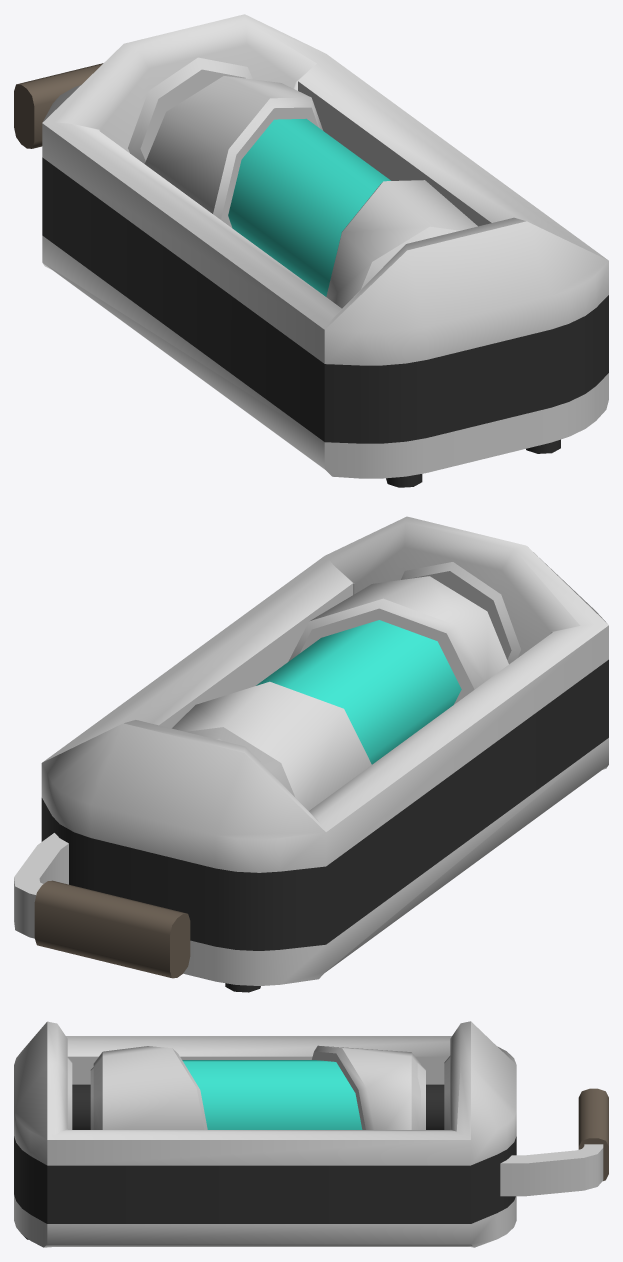
File: Ammo placeholder 2.fbx
The picture shows the model from 3 angles, top to bottom: view 1: azimuth 30°, elevation 25°; view 2: azimuth 150°, elevation 25°; view 3: azimuth 270°, elevation 25°; orthographic projection. The views are drawn at different scales.
Parts seen in each view (by area): view 1: Cylinder; view 2: Cylinder; view 3: Cylinder.
Boxes of the visible parts, box(x1,y1,x2,y2) form: Cylinder: box(14, 14, 608, 487); Cylinder: box(14, 516, 608, 992); Cylinder: box(14, 1021, 608, 1247).
Size of the model in its own units: 0.1788 by 0.1336 by 0.4324.
